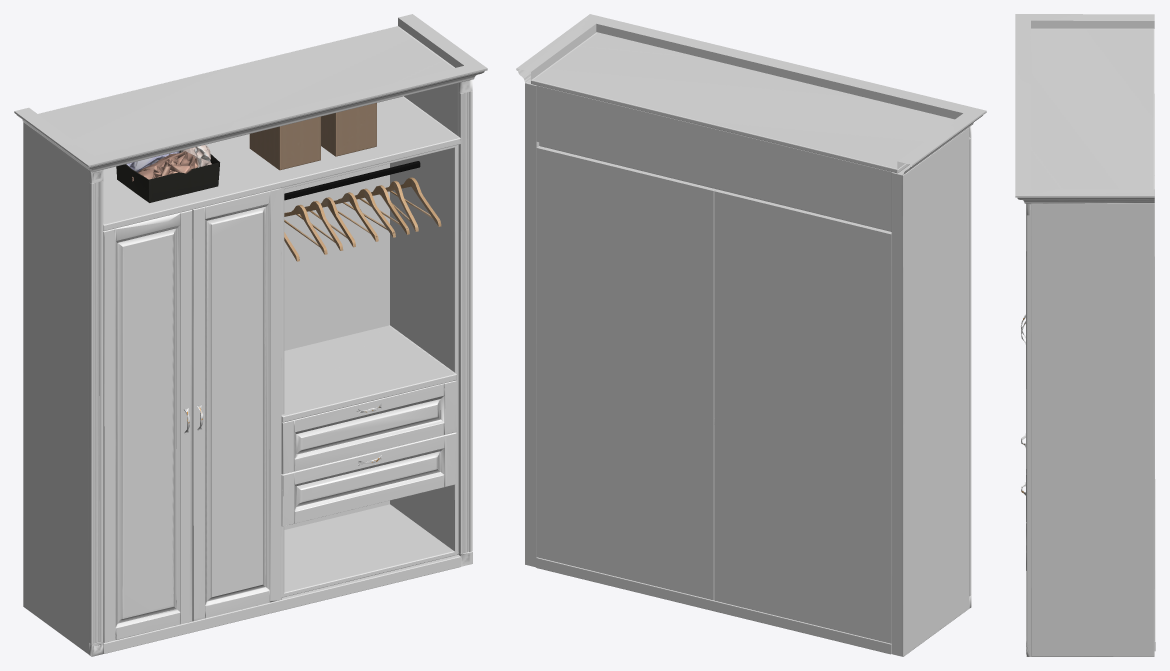
Rendered from raw_model.obj.
3 views of the same model, side by side, from view 1: azimuth 30°, elevation 25°; view 2: azimuth 150°, elevation 25°; view 3: azimuth 270°, elevation 25° (orthographic). The views are drawn at different scales.
Visible parts, largest first — view 1: solid_002, solid_004, solid_006, solid_007, solid_005, solid_008; view 2: solid_002; view 3: solid_002.
Part boxes in pixels (box(x1,y1,x2,y2)): solid_002: box(14, 14, 487, 656); solid_004: box(249, 103, 376, 170); solid_006: box(284, 177, 441, 261); solid_007: box(116, 150, 219, 202); solid_005: box(284, 161, 420, 200); solid_008: box(132, 151, 198, 181); solid_002: box(516, 14, 986, 656); solid_002: box(1015, 14, 1155, 656).
Size of the model in its own units: 2.01 by 2.39 by 0.654.
1 material, 1 textured.
